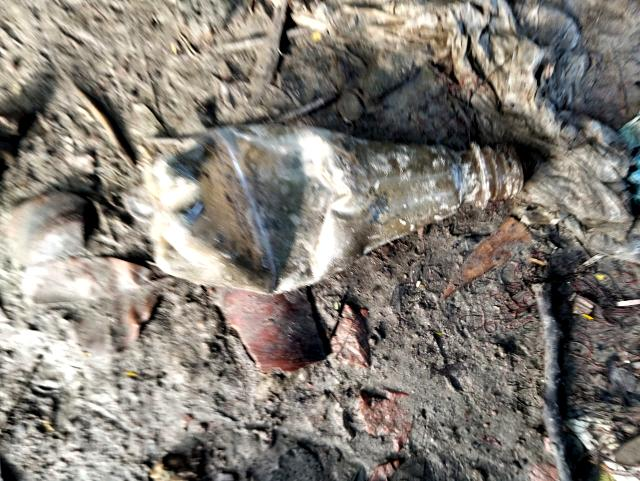bottle: (149, 125, 513, 284)
